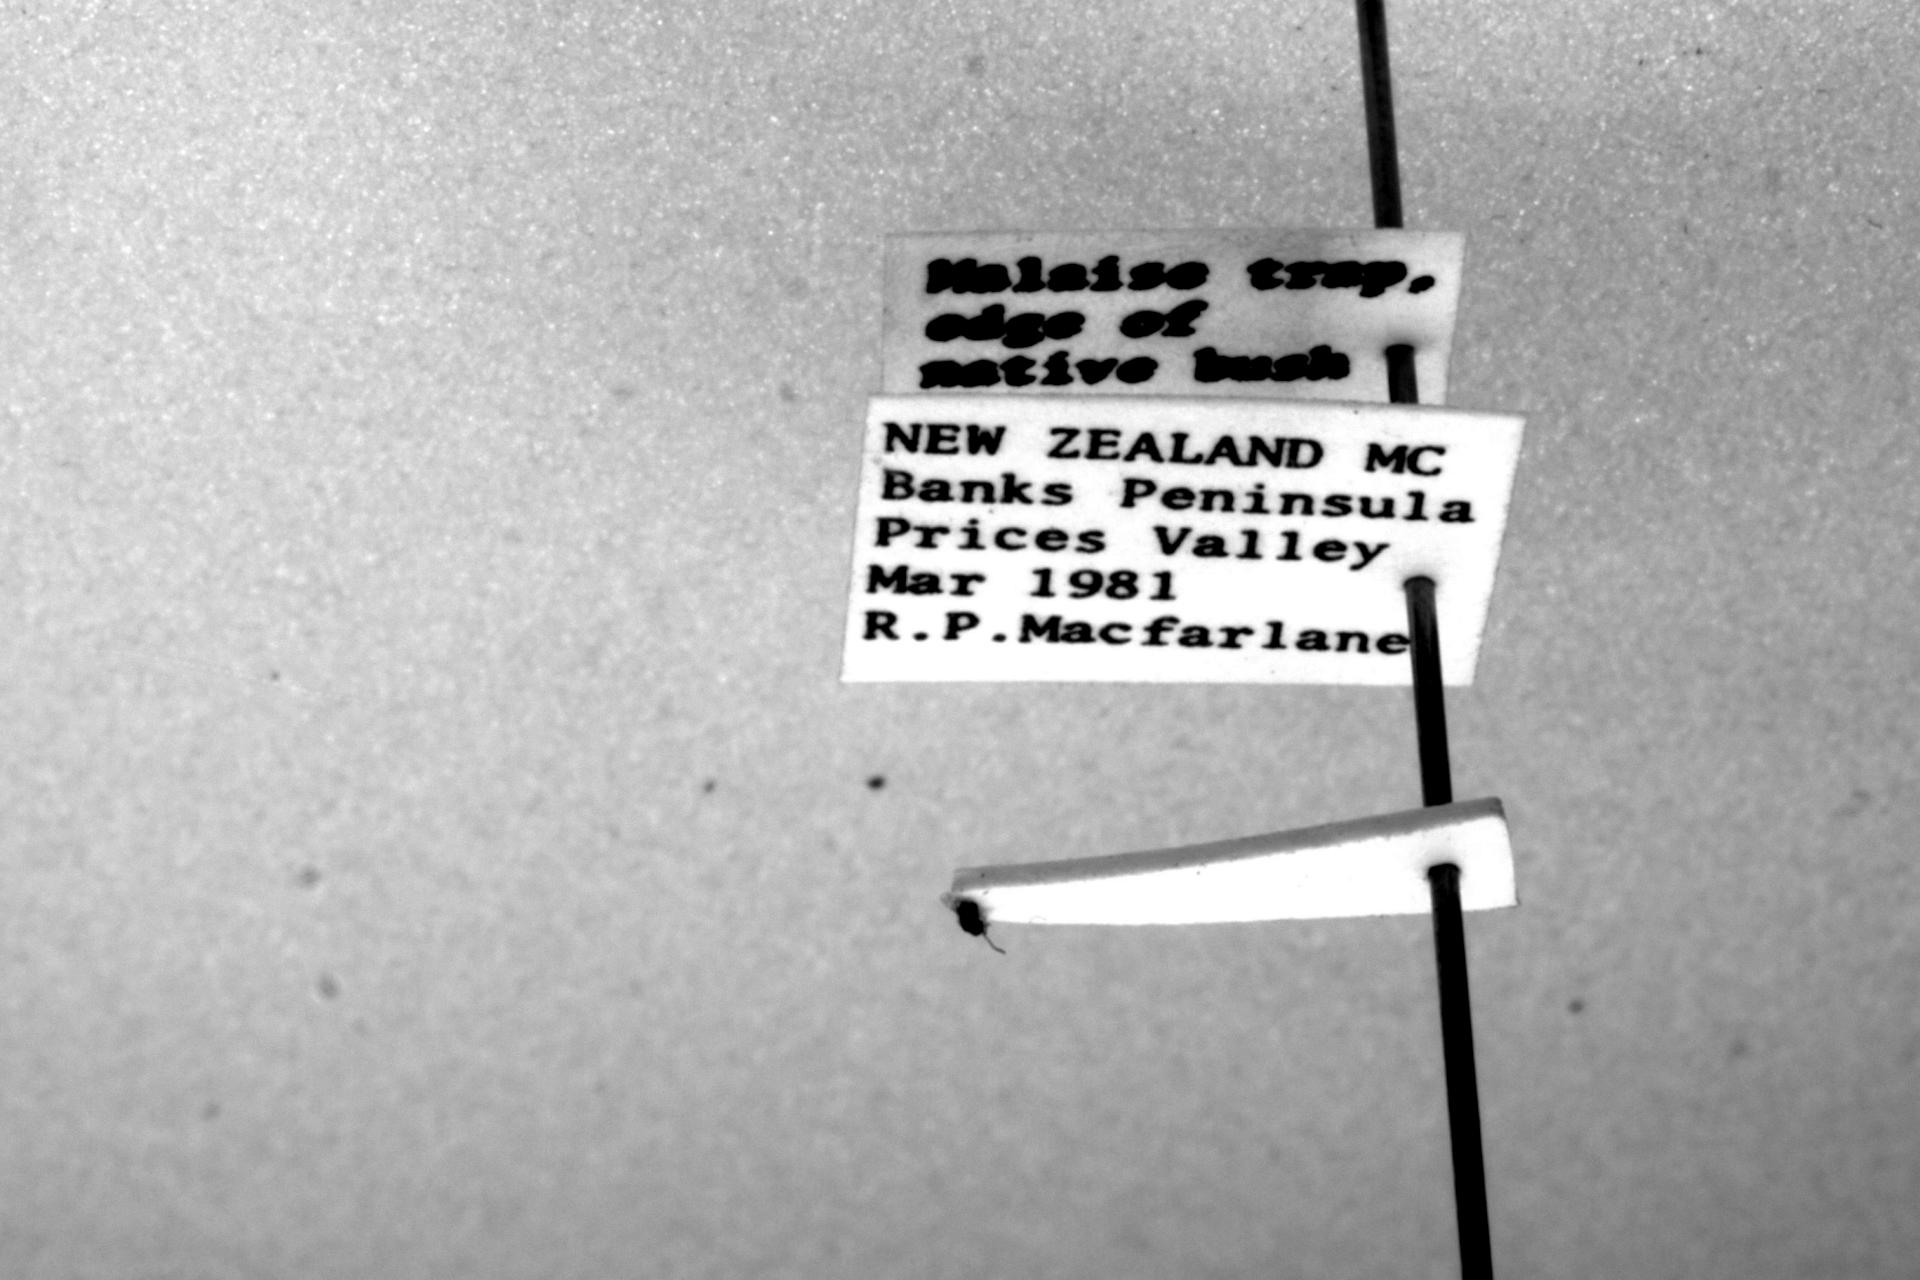typed_label: (844, 398, 1522, 686), (881, 229, 1466, 405)
